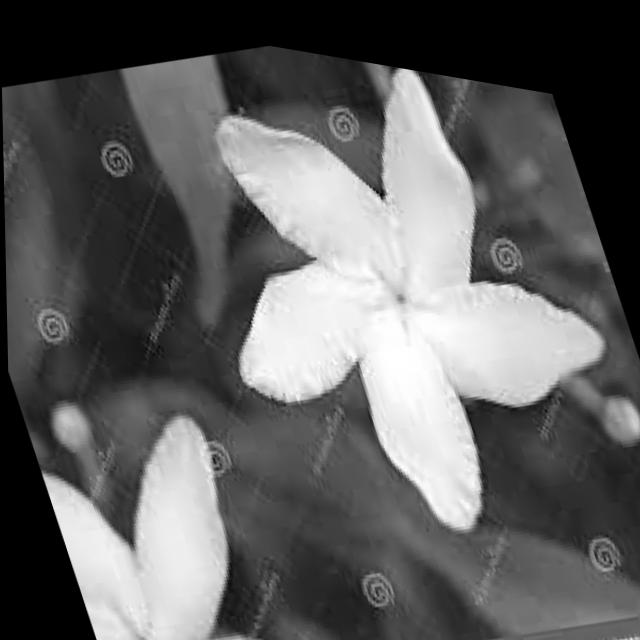Flower: (164, 22, 636, 559), (29, 379, 307, 640)
